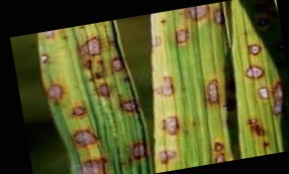Bacterial_Leaf_Blight: (254, 82, 289, 112), (147, 73, 176, 99), (67, 122, 96, 148), (75, 154, 108, 174), (202, 75, 222, 106), (211, 137, 231, 168), (77, 33, 103, 56), (151, 116, 179, 136), (237, 64, 267, 79), (124, 140, 146, 160), (244, 119, 266, 138), (241, 42, 265, 59), (67, 103, 88, 122), (156, 146, 178, 164), (46, 81, 65, 100), (209, 9, 228, 25), (172, 30, 191, 44), (110, 58, 124, 75), (99, 84, 113, 99), (147, 35, 161, 48), (39, 51, 49, 66), (43, 33, 57, 41)
